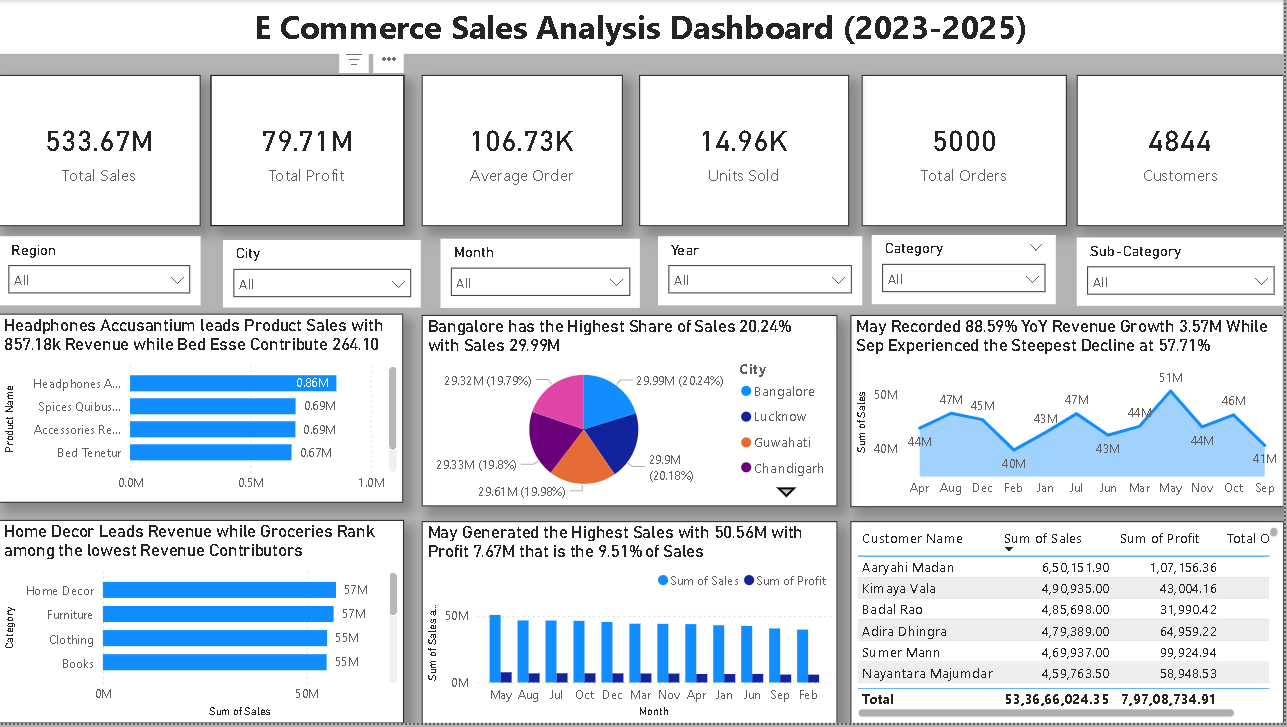

This screenshot's page, from the dashboard's own definition file:
{"tool":"powerbi","page":{"name":"E-Commerce-Sales  Dashbaord","canvas":[1280,720],"ordinal":0},"visuals":[{"type":"card","fields":{"Values":["Raw_Ecommerce_Sales_Data.Total Sales"]},"box":[0,75,201.2,150],"z":0},{"type":"card","fields":{"Values":["Raw_Ecommerce_Sales_Data.Total Profit"]},"box":[211.2,75,192.5,150],"z":2000},{"type":"card","fields":{"Values":["Raw_Ecommerce_Sales_Data.Total Orders"]},"box":[860,75,203.8,150],"z":3000},{"type":"card","fields":{"Values":["Raw_Ecommerce_Sales_Data.Customers"]},"box":[1073.8,75,206.2,150],"z":4000},{"type":"card","fields":{"Values":["Raw_Ecommerce_Sales_Data.Units Sold"]},"box":[638.8,75,208.8,150],"z":5000},{"type":"textbox","box":[0,0,1280,53.3],"z":6000},{"type":"lineChart","title":"May Recorded 88.59% YoY Revenue Growth 3.57M While Sep Experienced the Steepest Decline at 57.71%","fields":{"Category":["Raw_Ecommerce_Sales_Data.Month"],"Y":["Sum(Raw_Ecommerce_Sales_Data.Sales)"]},"box":[849,314,431.2,191.2],"z":7000},{"type":"pieChart","title":"Bangalore has the Highest Share of Sales 20.24% with Sales 29.99M","fields":{"Category":["Raw_Ecommerce_Sales_Data.City"],"Y":["Sum(Raw_Ecommerce_Sales_Data.Sales)"]},"box":[421.7,313.3,413.3,190],"z":8000},{"type":"slicer","fields":{"Values":["Raw_Ecommerce_Sales_Data.Region"]},"box":[0,235.7,201.4,68.6],"z":9000},{"type":"slicer","fields":{"Values":["Raw_Ecommerce_Sales_Data.City"]},"box":[224.3,238.6,197.1,67.1],"z":10000},{"type":"barChart","title":"Headphones Accusantium leads Product Sales with 857.18k Revenue while Bed Esse Contribute 264.10","fields":{"Category":["Raw_Ecommerce_Sales_Data.Product Name"],"Y":["Raw_Ecommerce_Sales_Data.Total Sales"]},"box":[0,312.2,403.3,187.8],"z":11000},{"type":"card","fields":{"Values":["Raw_Ecommerce_Sales_Data.Average Order"]},"box":[421.2,75,200,150],"z":12000},{"type":"barChart","title":"Home Decor Leads Revenue while  Groceries Rank among the lowest Revenue Contributors ","fields":{"Category":["Raw_Ecommerce_Sales_Data.Category"],"Y":["Sum(Raw_Ecommerce_Sales_Data.Sales)"]},"box":[0,517.5,403.8,202.5],"z":13000},{"type":"clusteredColumnChart","title":"May Generated the Highest Sales with 50.56M with Profit 7.67M that is  the 9.51% of Sales ","fields":{"Category":["Raw_Ecommerce_Sales_Data.Month"],"Y":["Sum(Raw_Ecommerce_Sales_Data.Sales)","Sum(Raw_Ecommerce_Sales_Data.Profit)"]},"box":[421.7,518.3,413.3,201.7],"z":14000},{"type":"tableEx","fields":{"Values":["Raw_Ecommerce_Sales_Data.Customer Name","Sum(Raw_Ecommerce_Sales_Data.Sales)","Sum(Raw_Ecommerce_Sales_Data.Profit)","Raw_Ecommerce_Sales_Data.Total Orders"]},"box":[848.3,518.3,431.7,201.7],"z":15000},{"type":"slicer","fields":{"Values":["Raw_Ecommerce_Sales_Data.Category"]},"box":[870,234.3,182.9,68.6],"z":16000},{"type":"slicer","fields":{"Values":["Raw_Ecommerce_Sales_Data.Sub-Category"]},"box":[1073.3,236.7,206.7,68.3],"z":17000},{"type":"slicer","fields":{"Values":["Raw_Ecommerce_Sales_Data.Month"]},"box":[440,237.1,198.6,68.6],"z":18000},{"type":"slicer","fields":{"Values":["Raw_Ecommerce_Sales_Data.Year"]},"box":[657.1,235.7,202.9,68.6],"z":19000}]}

Visuals, with their boxes in screenshot pixels (x1, y1, x2, y2), scaled from the page's 1280x720 canvas onto the 1287x727 screenshot:
card - Raw_Ecommerce_Sales_Data.Total Sales: (0,76,202,227)
card - Raw_Ecommerce_Sales_Data.Total Profit: (212,76,406,227)
card - Raw_Ecommerce_Sales_Data.Total Orders: (865,76,1070,227)
card - Raw_Ecommerce_Sales_Data.Customers: (1080,76,1286,227)
card - Raw_Ecommerce_Sales_Data.Units Sold: (642,76,852,227)
textbox: (0,0,1286,54)
"May Recorded 88.59% YoY Revenue Growth 3.57M While Sep Experienced the Steepest Decline at 57.71%" lineChart: (854,317,1286,510)
"Bangalore has the Highest Share of Sales 20.24% with Sales 29.99M" pieChart: (424,316,840,508)
slicer - Raw_Ecommerce_Sales_Data.Region: (0,238,203,307)
slicer - Raw_Ecommerce_Sales_Data.City: (226,241,424,309)
"Headphones Accusantium leads Product Sales with 857.18k Revenue while Bed Esse Contribute 264.10" barChart: (0,315,406,505)
card - Raw_Ecommerce_Sales_Data.Average Order: (424,76,625,227)
"Home Decor Leads Revenue while  Groceries Rank among the lowest Revenue Contributors " barChart: (0,523,406,726)
"May Generated the Highest Sales with 50.56M with Profit 7.67M that is  the 9.51% of Sales " clusteredColumnChart: (424,523,840,726)
tableEx - Raw_Ecommerce_Sales_Data.Customer Name x Sum(Raw_Ecommerce_Sales_Data.Sales): (853,523,1286,726)
slicer - Raw_Ecommerce_Sales_Data.Category: (875,237,1059,306)
slicer - Raw_Ecommerce_Sales_Data.Sub-Category: (1079,239,1286,308)
slicer - Raw_Ecommerce_Sales_Data.Month: (442,239,642,309)
slicer - Raw_Ecommerce_Sales_Data.Year: (661,238,865,307)
